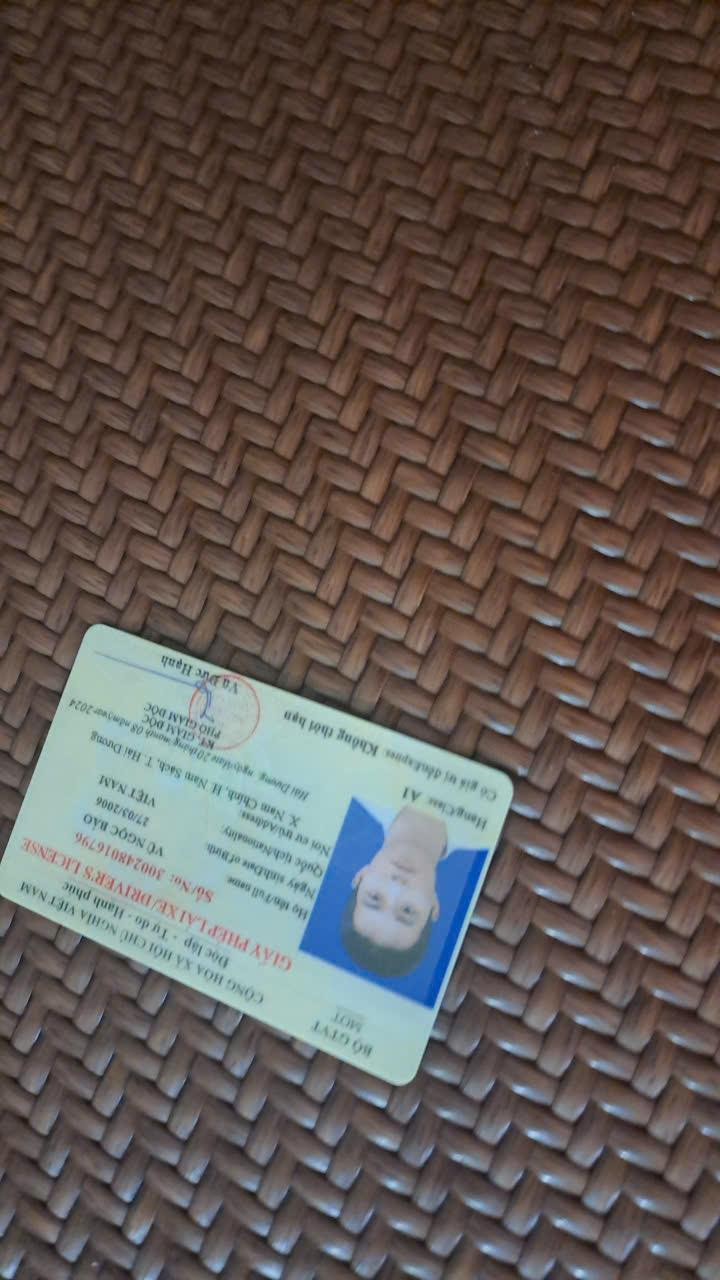gplx: (0, 611, 520, 1100)
